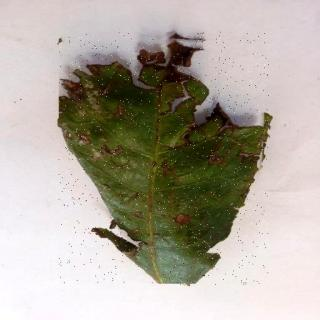Algal Leaf: (60, 34, 271, 287)
